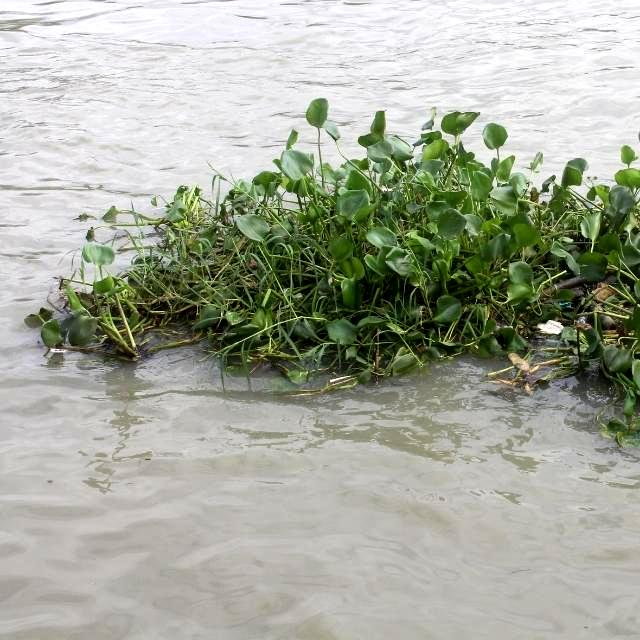water-hyacinth: (27, 97, 640, 412)
